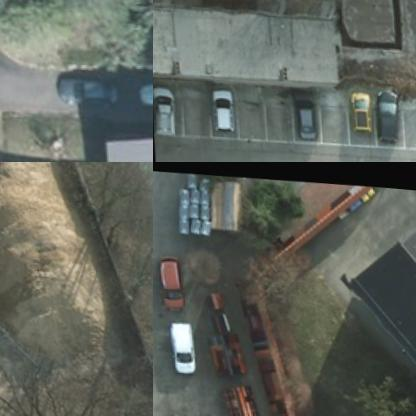car: (55, 70, 115, 106), (374, 80, 401, 142), (156, 251, 183, 307), (165, 316, 193, 368), (153, 81, 178, 135), (205, 84, 231, 130), (292, 92, 317, 134), (348, 84, 370, 127), (136, 71, 152, 105)
